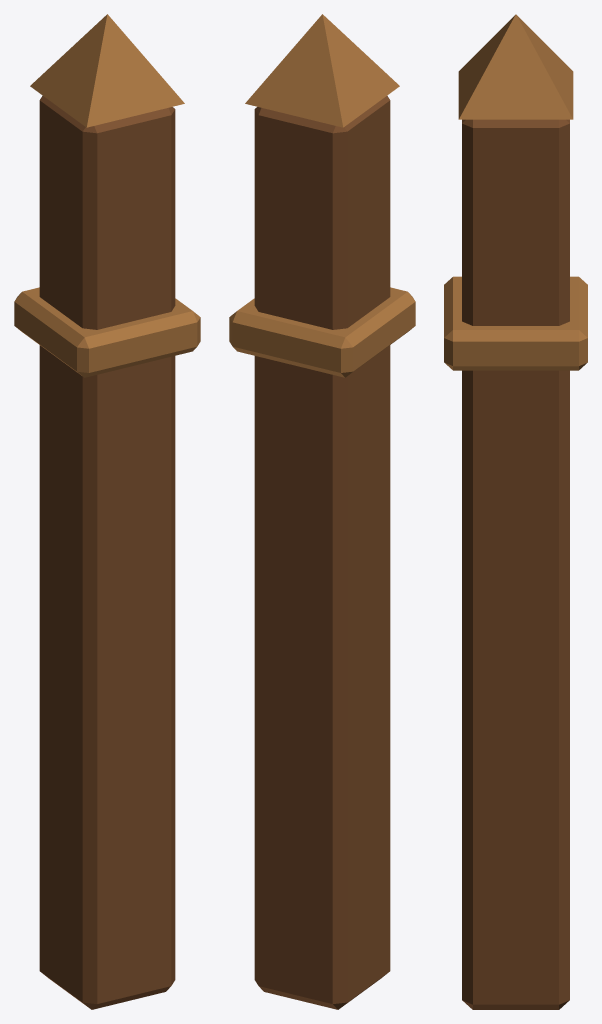
File: vil_fence_post_v01.glb
3 views of the same model, side by side, from view 1: azimuth 30°, elevation 25°; view 2: azimuth 150°, elevation 25°; view 3: azimuth 270°, elevation 25° (orthographic).
Parts seen in each view (by area): view 1: fence_post; view 2: fence_post; view 3: fence_post.
Boxes of the visible parts, x1,y1,x2,y2 form: fence_post: [14, 14, 200, 1009]; fence_post: [229, 14, 415, 1009]; fence_post: [444, 14, 587, 1009].
Size of the model in its own units: 0.16 by 1.2 by 0.16.
